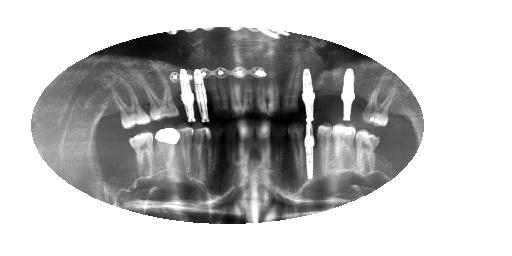i10decay: (222, 116, 240, 194)
i11decay: (204, 117, 225, 190)
i12healthy: (190, 117, 212, 186)
i13healthy: (175, 121, 198, 191)
i14healthy: (153, 121, 182, 185)
i15healthy: (127, 128, 156, 194)
i2decay: (354, 123, 382, 181)
i3healthy: (329, 119, 357, 177)
i4healthy: (315, 114, 335, 186)
i5healthy: (300, 119, 321, 186)
i6healthy: (287, 116, 308, 188)
i7decay: (268, 115, 289, 188)
i8chipped: (253, 115, 276, 190)
i9chipped: (231, 114, 256, 193)
u10chipped: (240, 64, 255, 121)
u11healthy: (228, 68, 244, 124)
u12decay: (208, 66, 231, 126)
u13healthy: (192, 65, 215, 126)
u14healthy: (174, 61, 196, 126)
u15healthy: (141, 64, 181, 130)
u16healthy: (109, 72, 151, 131)
u1loss: (385, 93, 415, 139)
u2healthy: (360, 72, 398, 134)
u3loss: (347, 70, 373, 130)
u4healthy: (332, 64, 362, 125)
u5loss: (316, 63, 345, 123)
u6healthy: (299, 61, 325, 129)
u7decay: (279, 57, 306, 119)
u8healthy: (266, 65, 283, 119)
u9healthy: (253, 65, 270, 118)
